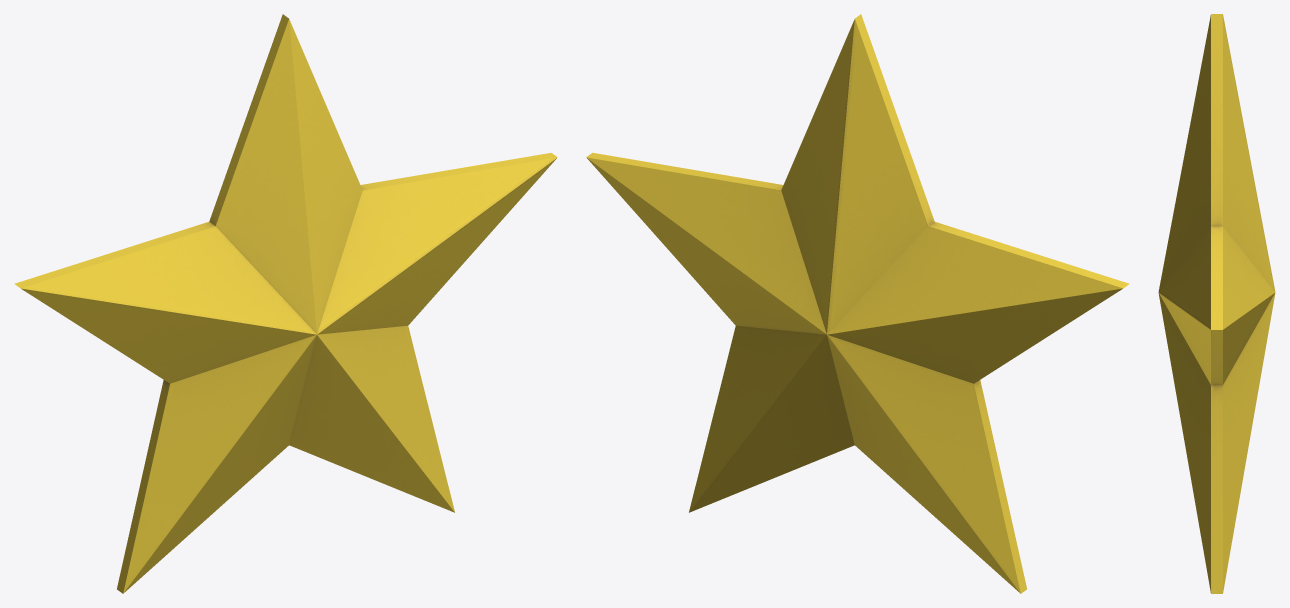
File: gold star.fbx
3 renders of one model, left to right at view 1: azimuth 30°, elevation 25°; view 2: azimuth 150°, elevation 25°; view 3: azimuth 270°, elevation 25°, orthographic. The views are drawn at different scales.
Visible parts, largest first — view 1: Star; view 2: Star; view 3: Star.
Part boxes in pixels (x1=…): Star: x1=14, y1=14, x2=557, y2=593; Star: x1=586, y1=14, x2=1129, y2=593; Star: x1=1158, y1=14, x2=1275, y2=593.
Size of the model in its own units: 572 by 544 by 115.
1 material, 1 textured.
